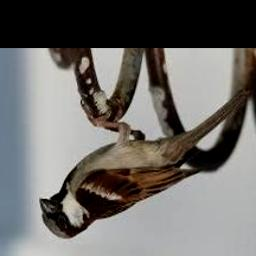Sparrow: (40, 86, 251, 238)
